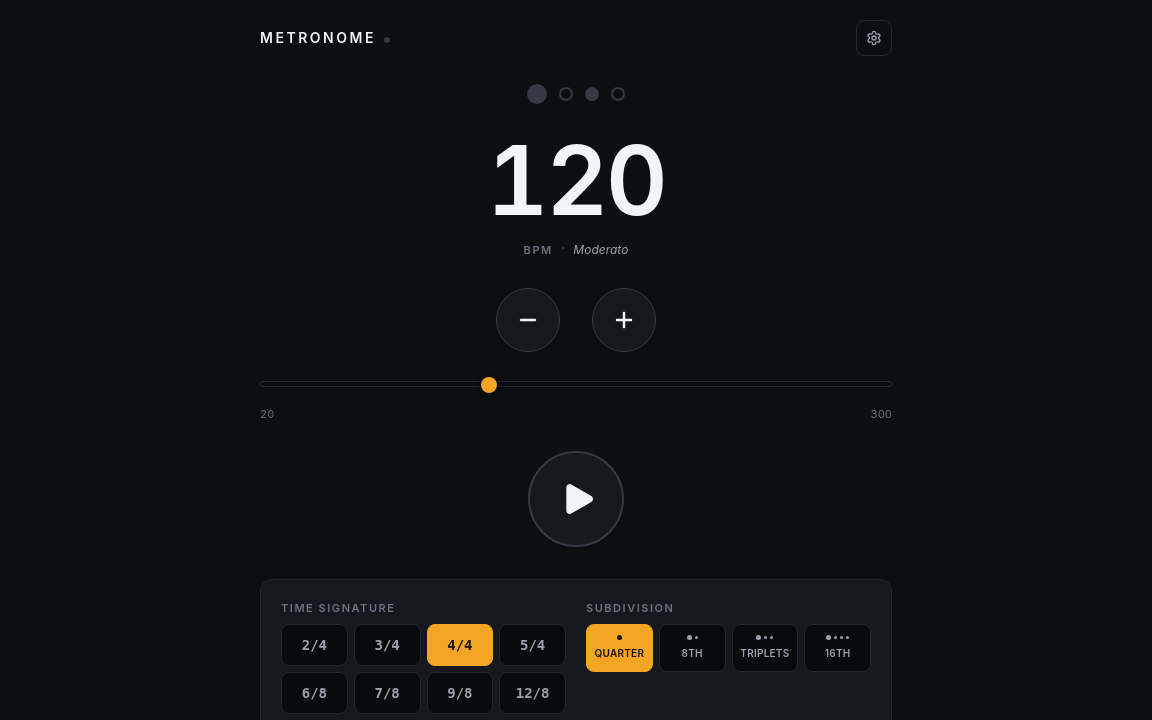
Test: App › opens and closes the settings drawer
The image size is (1152, 720).
Click the button named "Open settings": (874, 38) [856, 20, 892, 56]
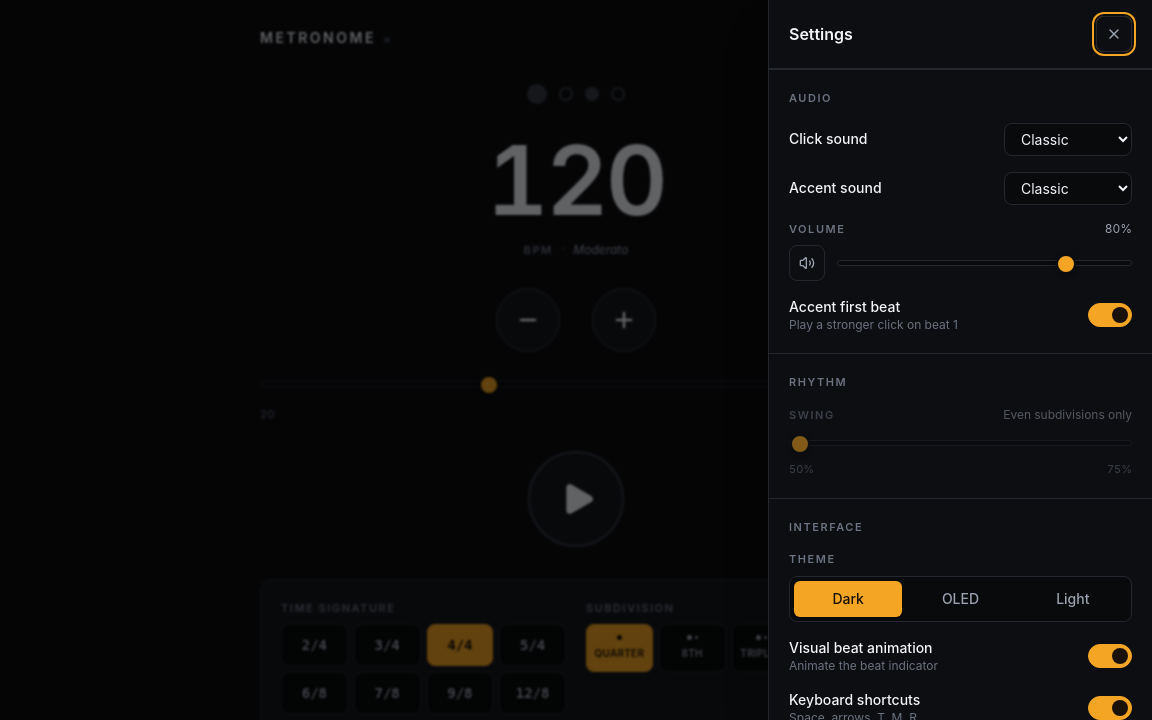
Expected: the dialog "Settings" is shown, [768, 0, 1151, 719]
Press Escape
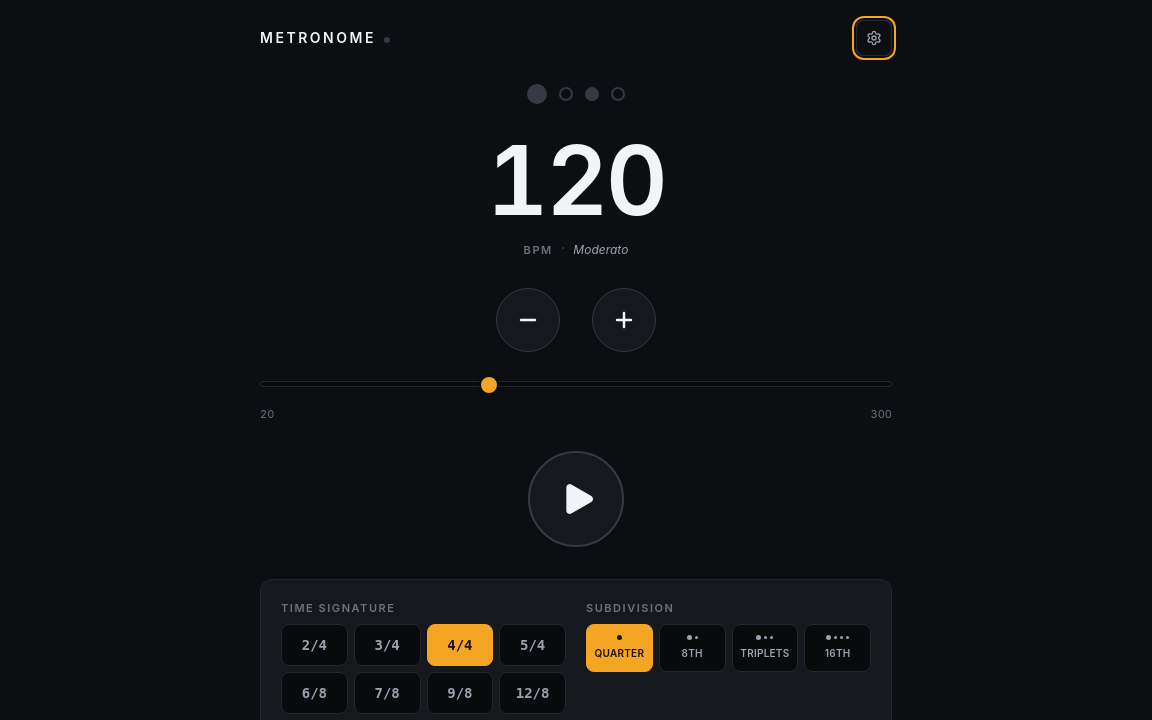
Expected: the dialog is gone
